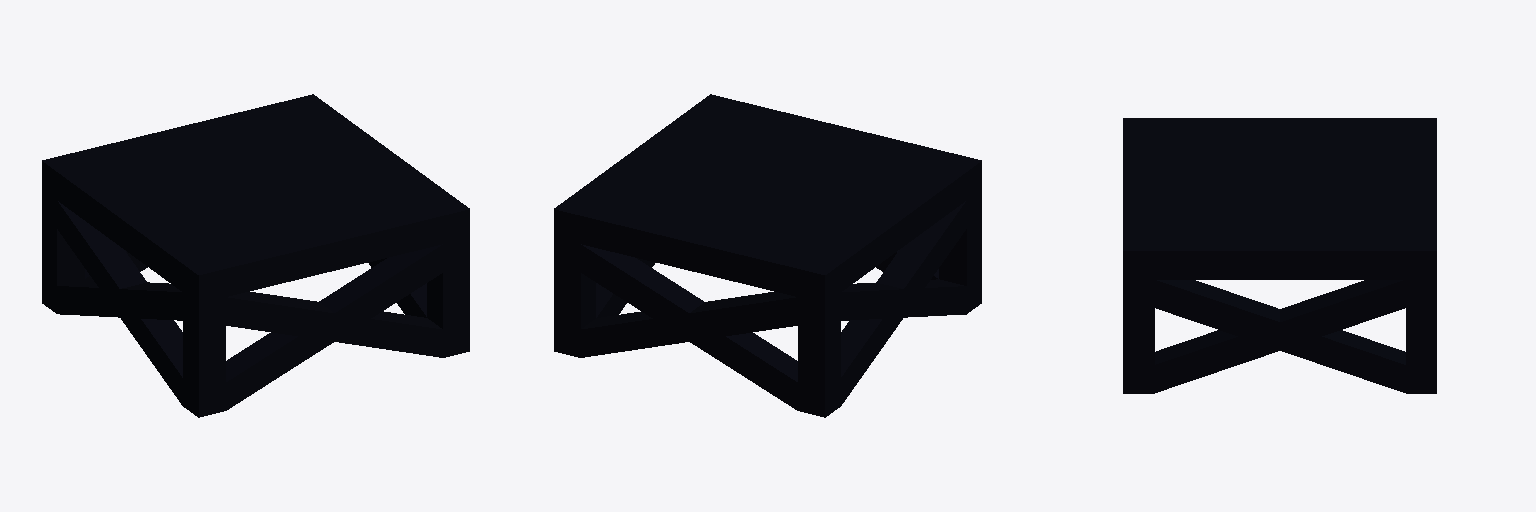
File: metal_platform.obj
3 views of the same model, side by side, from view 1: azimuth 30°, elevation 25°; view 2: azimuth 150°, elevation 25°; view 3: azimuth 270°, elevation 25° (orthographic).
Parts seen in each view (by area): view 1: Cube; view 2: Cube; view 3: Cube.
Boxes of the visible parts, box(x1,y1,x2,y2) form: Cube: box(42, 94, 469, 417); Cube: box(554, 94, 981, 417); Cube: box(1123, 118, 1436, 393).
Size of the model in its own units: 2 by 1 by 2.